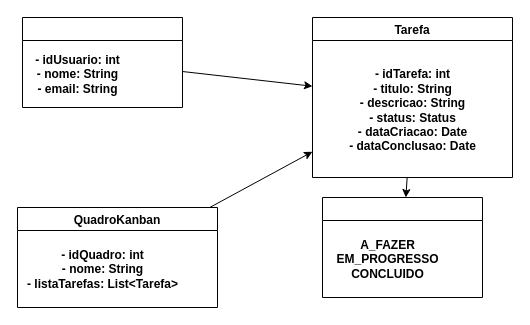
Some shapes in this 530 by 325 pixel diagram are drawn without their labels. Here are the shapes that lost their labels. From the top down, the box of each, then its label:
(22, 16, 182, 108): Usuário
(322, 196, 482, 298): Status {enum}
